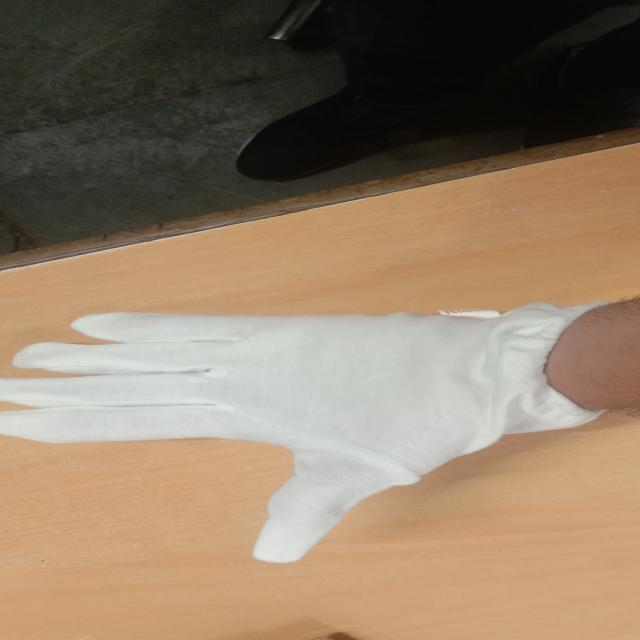gloved_hand: (0, 278, 624, 570)
